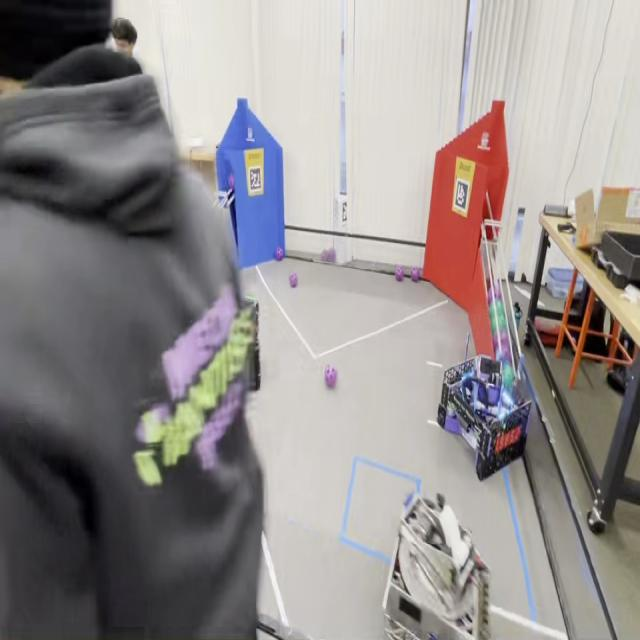artifact_purple: (325, 366, 337, 388), (488, 285, 501, 303), (500, 330, 510, 353), (500, 337, 510, 357), (493, 335, 499, 359), (411, 267, 419, 282), (228, 174, 235, 190), (396, 267, 403, 282), (328, 248, 335, 263), (290, 273, 297, 287), (276, 247, 283, 261), (320, 250, 327, 262)
